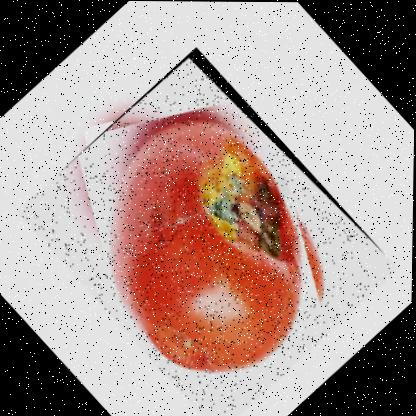tomato_rotten: (12, 43, 403, 415)
